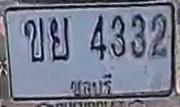2: (150, 13, 167, 57)
3: (130, 13, 146, 58), (110, 14, 126, 57)
4: (90, 14, 106, 60)
A02: (23, 18, 44, 62)
A34: (50, 16, 70, 62)
CBI: (67, 72, 115, 99)
